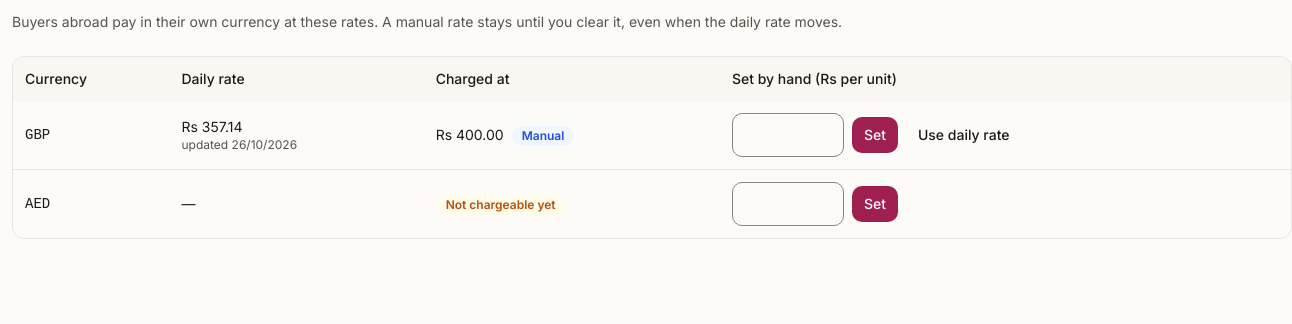
Test: FxRates › refuses a rate that isn't a number
Type "lots" into the field named "Rupees per GBP" at (788, 135), box [732,113,844,157]
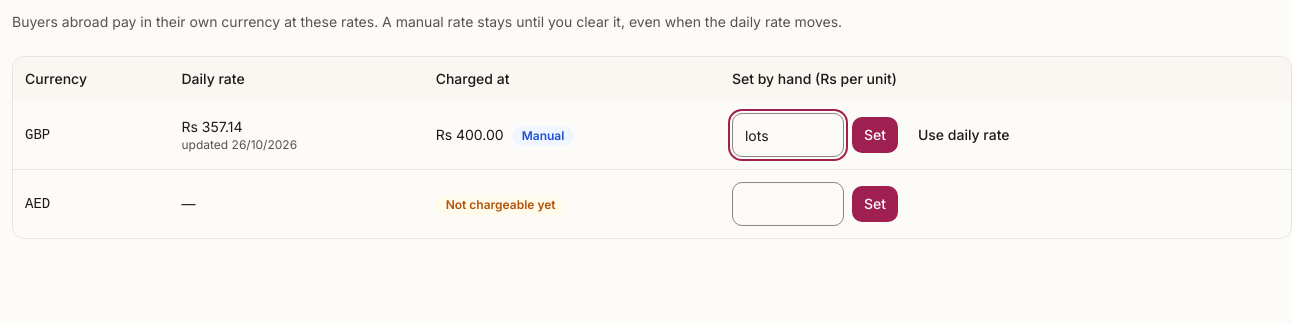
Click the button "Set" in the row of "GBP" at (875, 135), box [852,117,898,153]
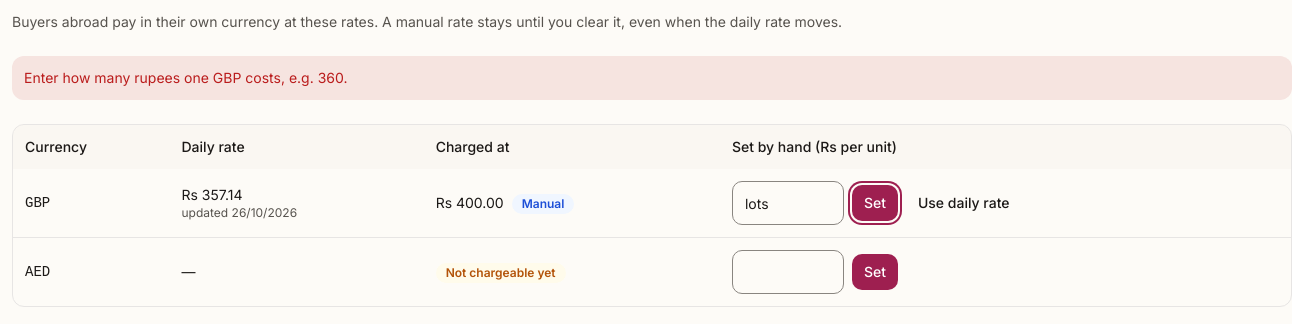
Expected: the message shows "Enter how many rupees one GBP costs", [24,69,348,86]
